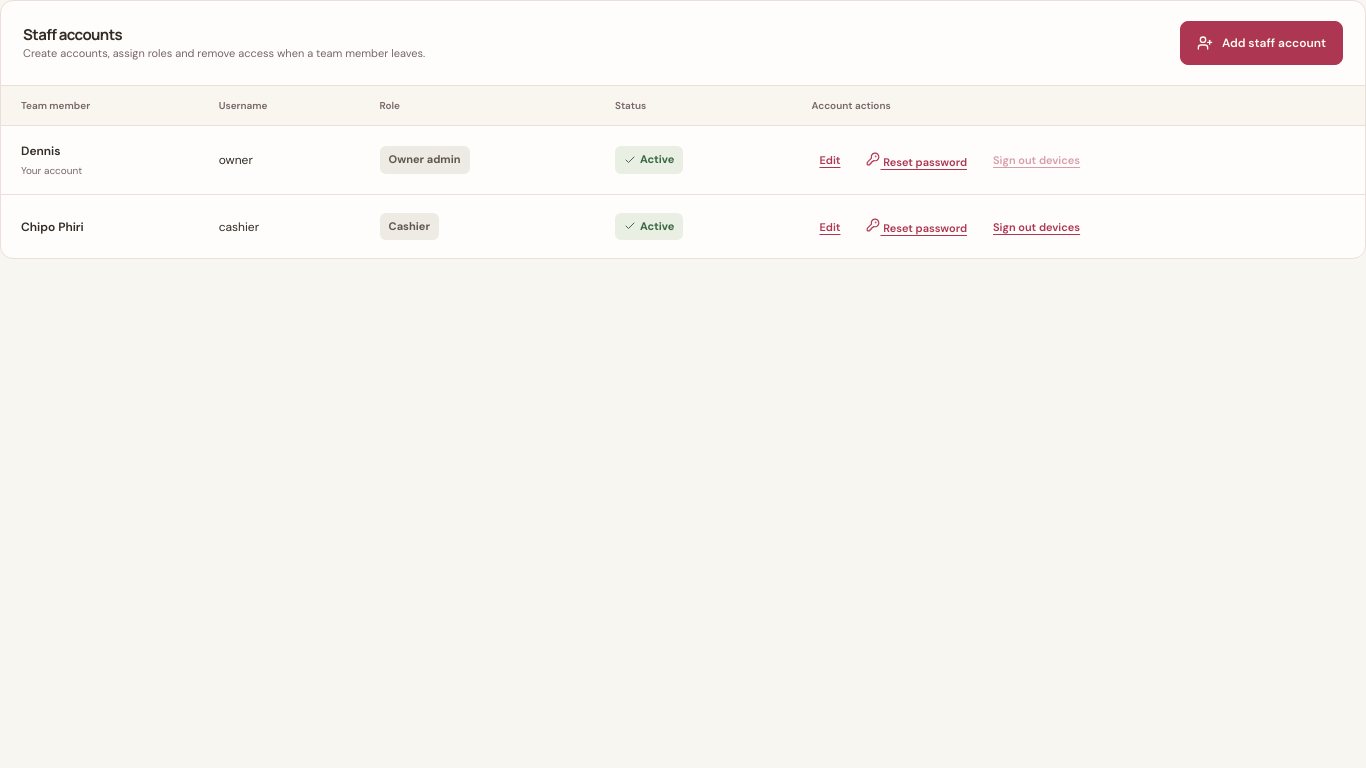
owner can review and create a staff account
The image size is (1366, 768).
Check: the text "Chipo Phiri" is shown, box [21,218,84,234]
Click the button "Add staff account" at (1261, 43), box [1180,21,1343,65]
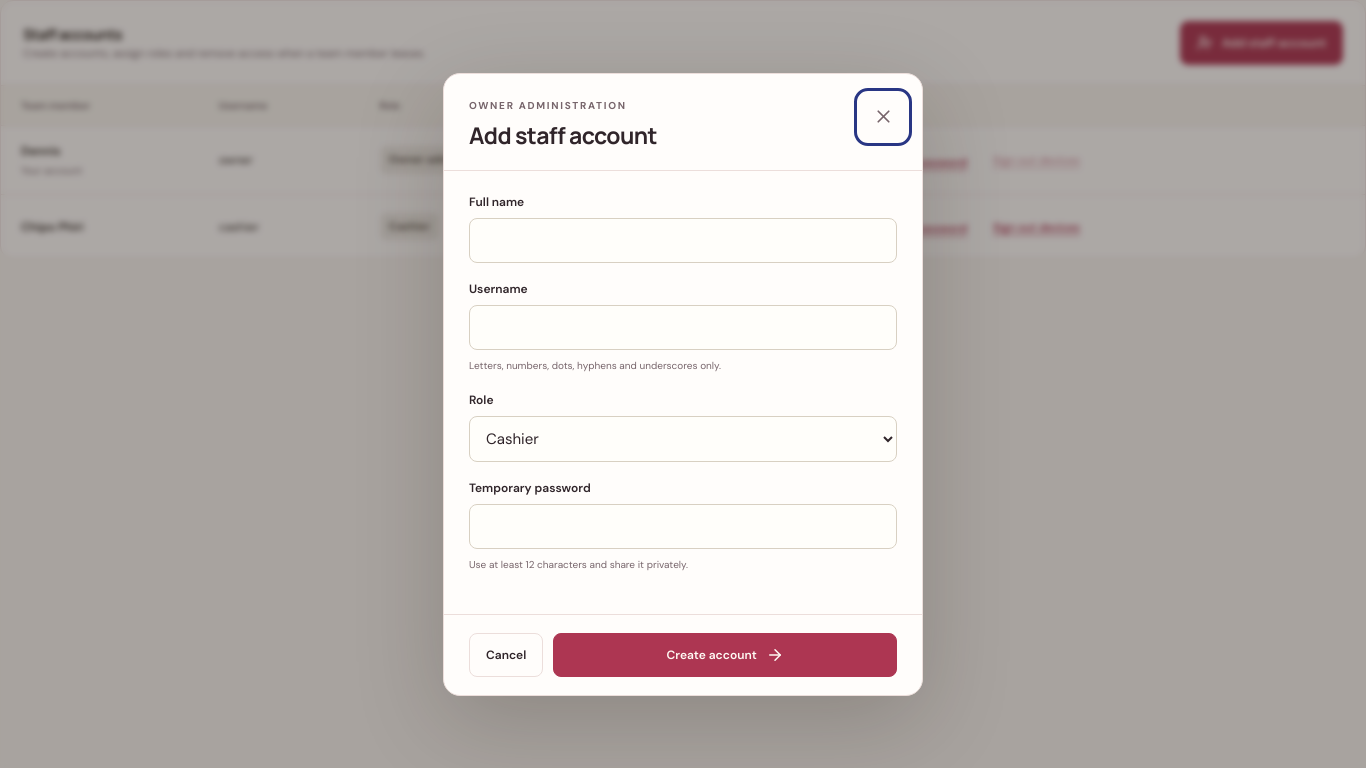
Check: the dropdown labelled "Role" does not show "Server", box [469,416,897,462]
Type "Counter Two" into the field labelled "Full name" at (683, 240), box [469,218,897,262]
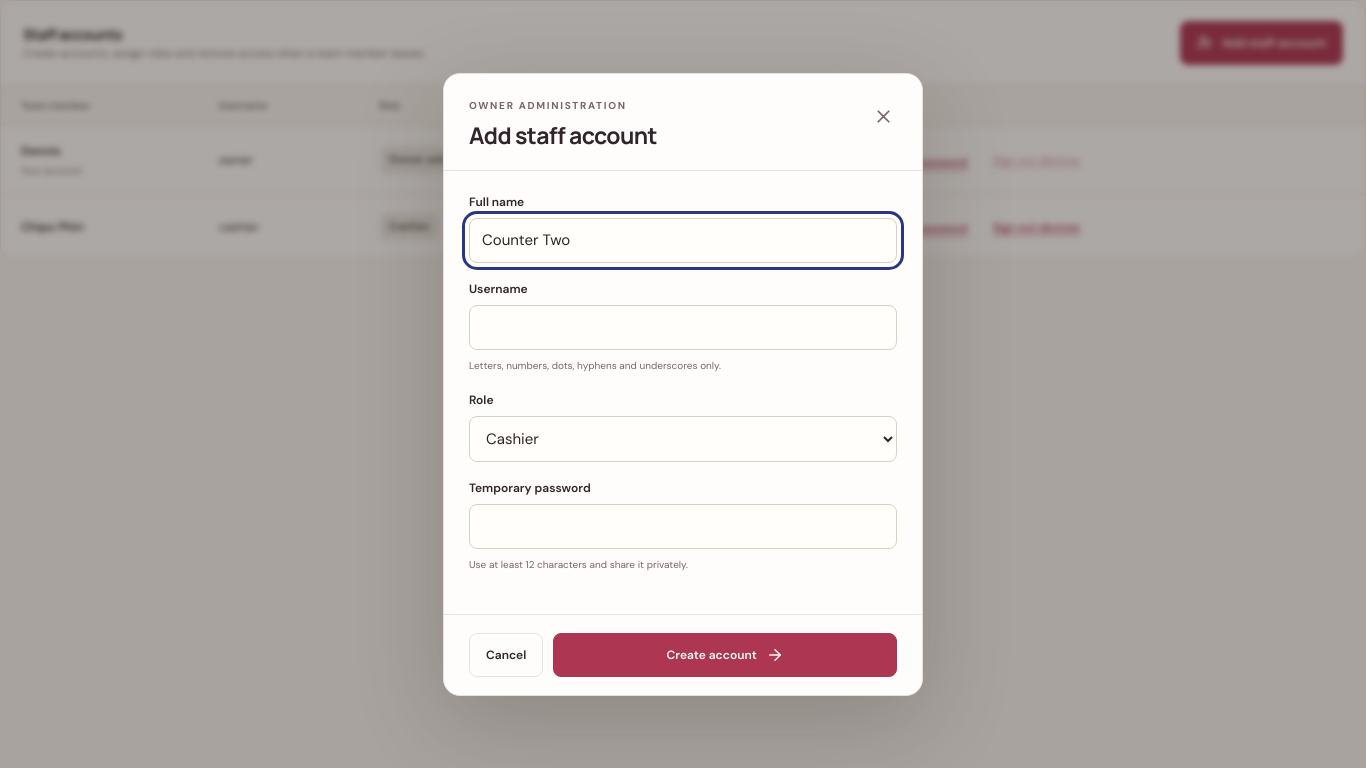
Type "counter-two" into the field labelled "Username" at (683, 327), box [469,304,897,350]
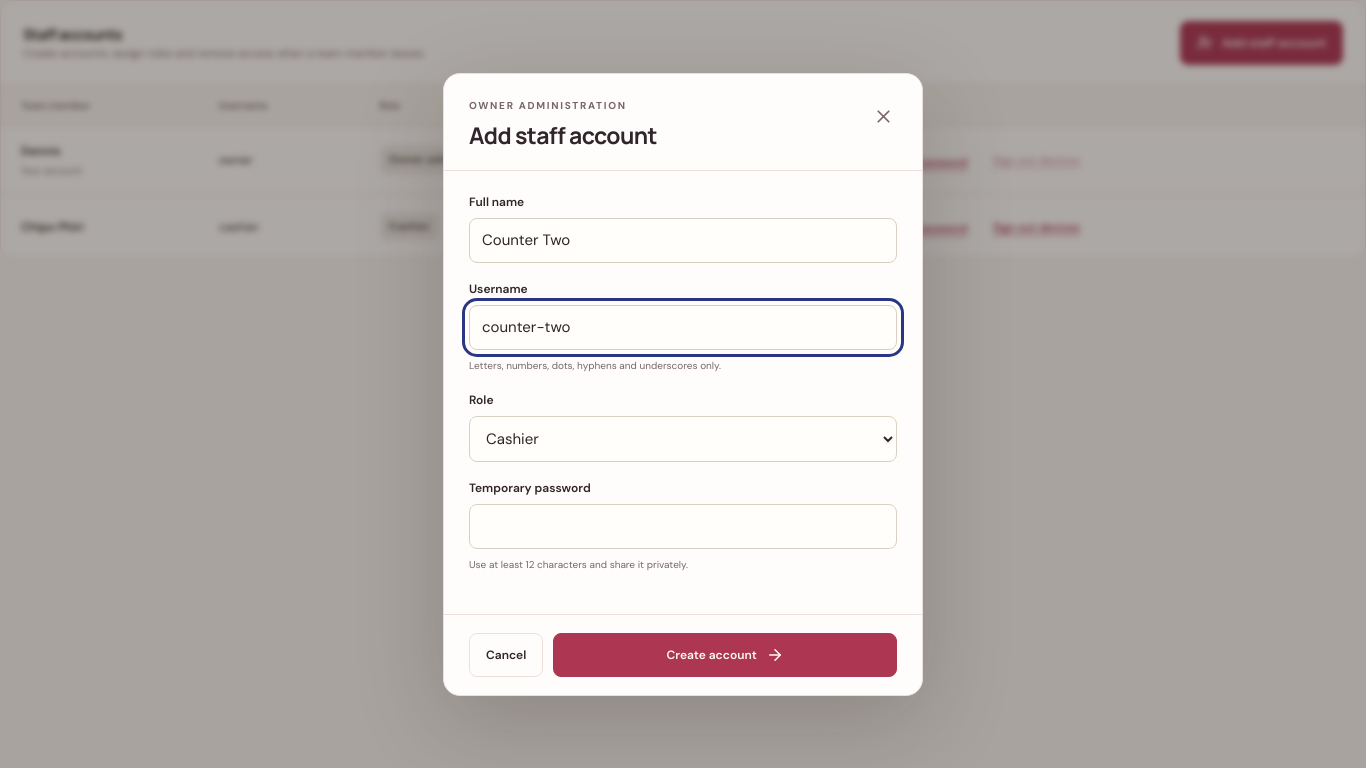
Type "temporary-password-2026" into the password field labelled "Temporary password" at (683, 526), box [469,504,897,548]
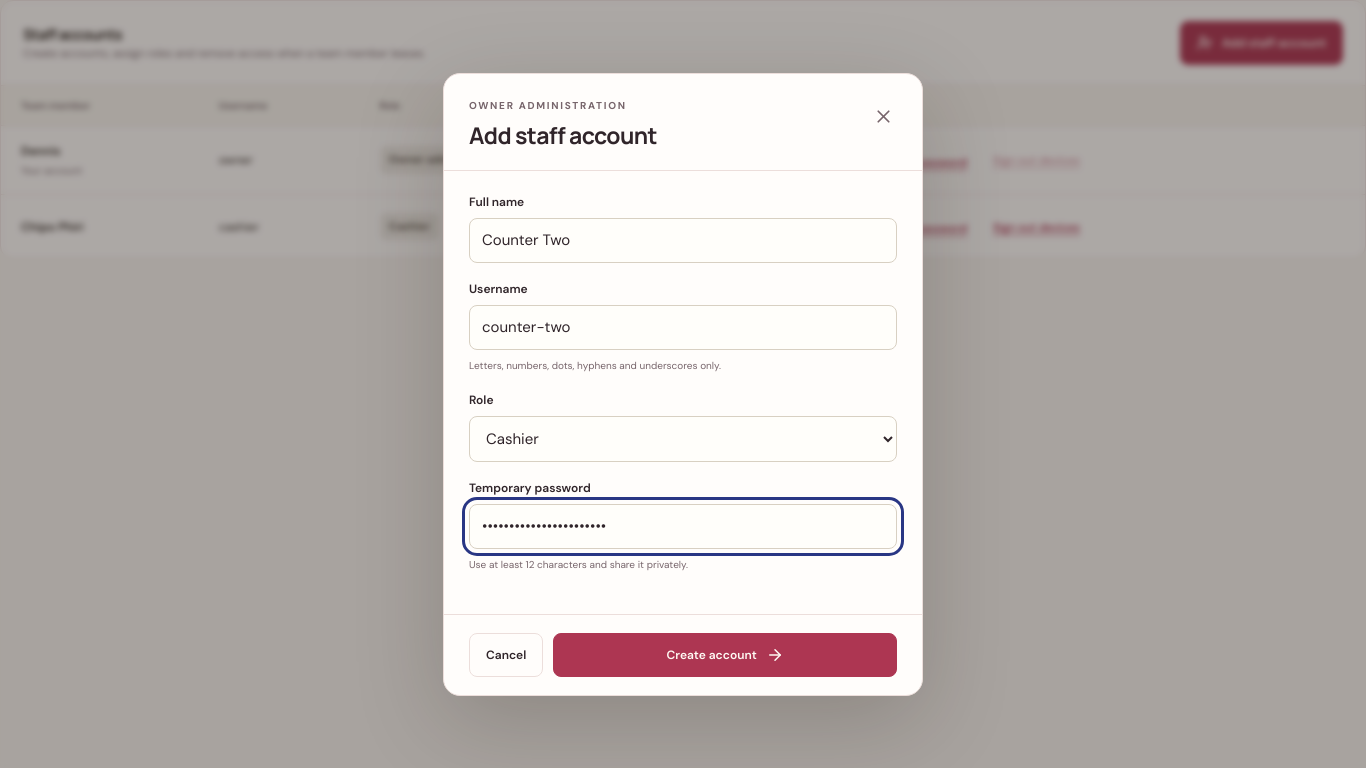
Click the button "Create account" at (725, 654), box [553,632,897,676]
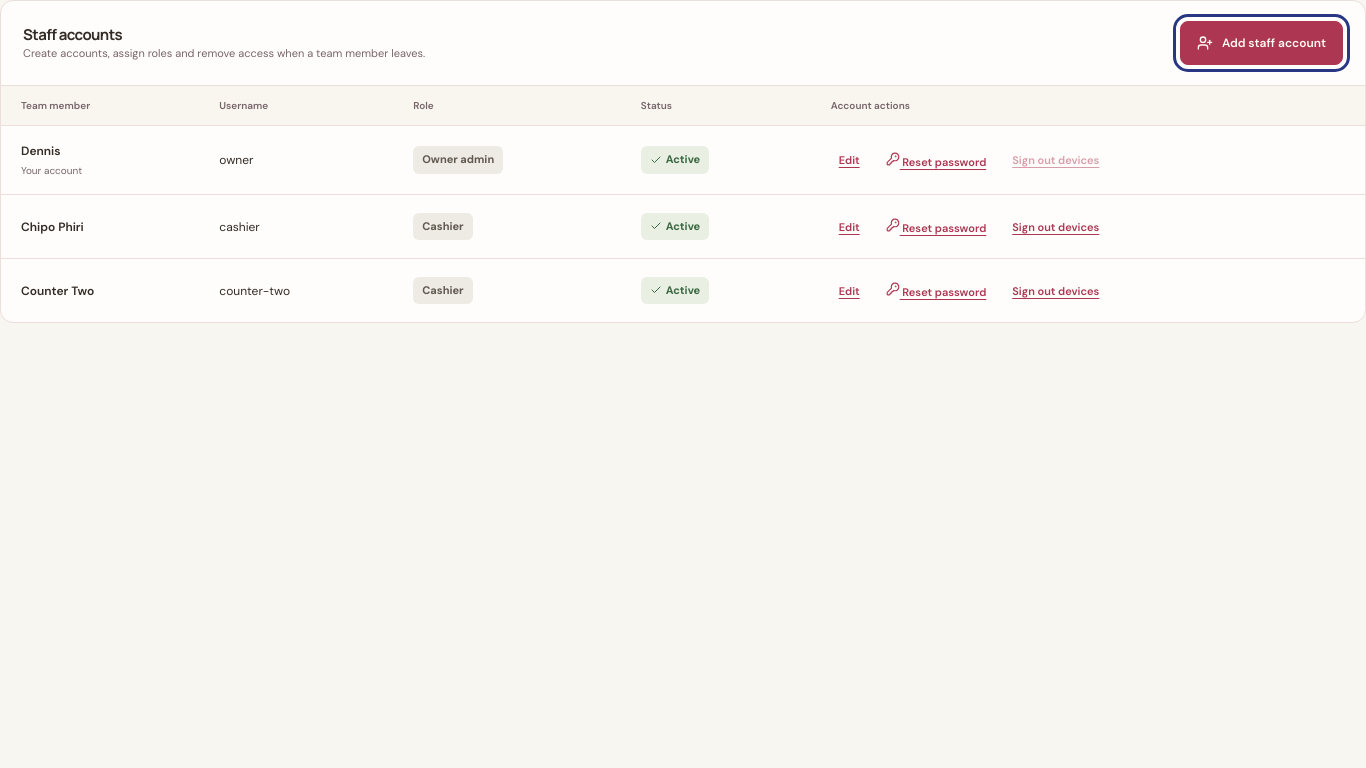
Check: the text "Counter Two" is shown, box [21,282,94,298]
